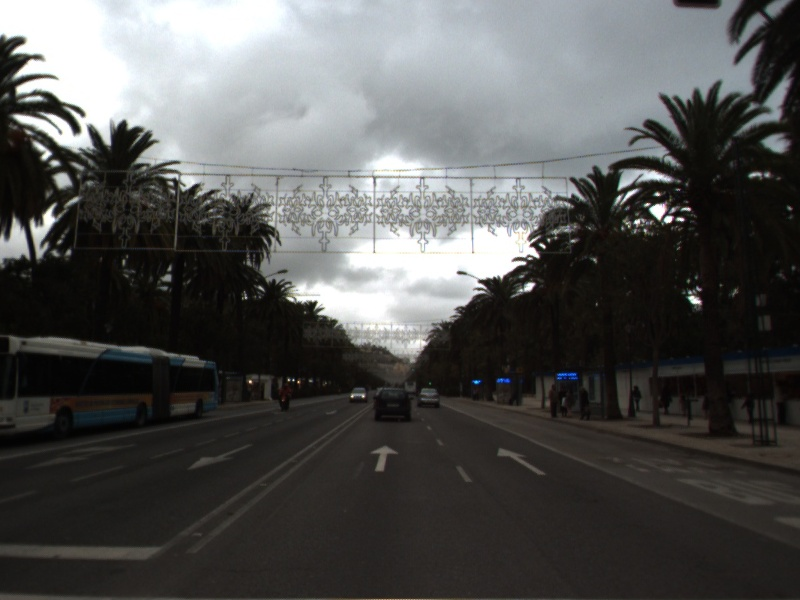STRAIGHT: (495, 445, 548, 477), (368, 443, 402, 473)
